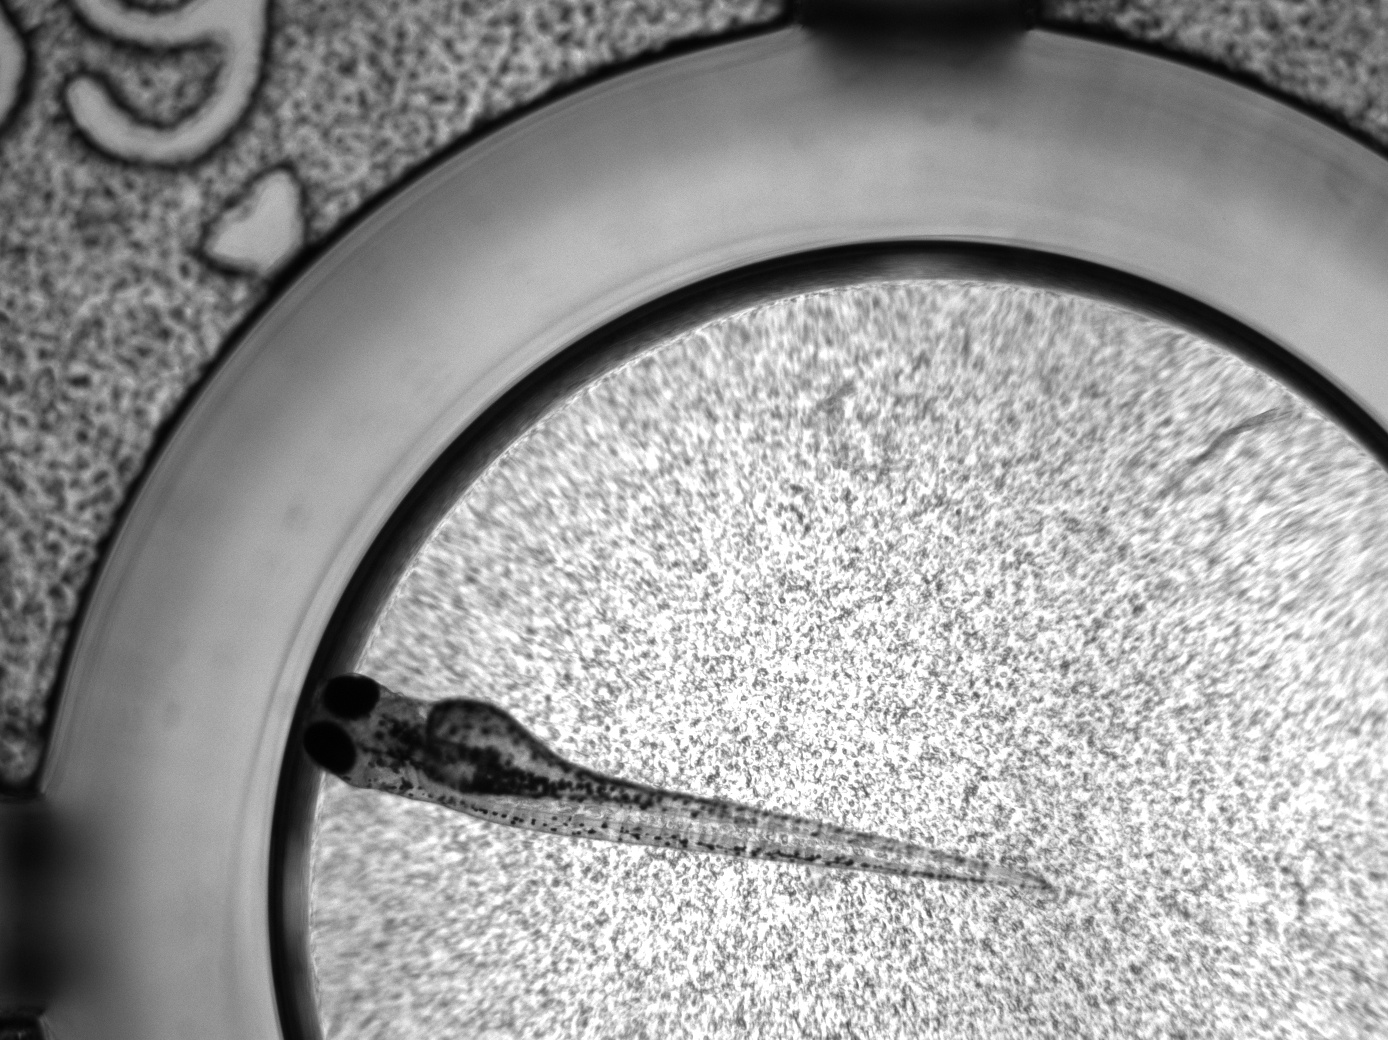embryo: (301, 675, 1055, 894)
eye: (302, 719, 355, 773), (321, 675, 380, 718)
yolksac: (425, 698, 554, 796)
